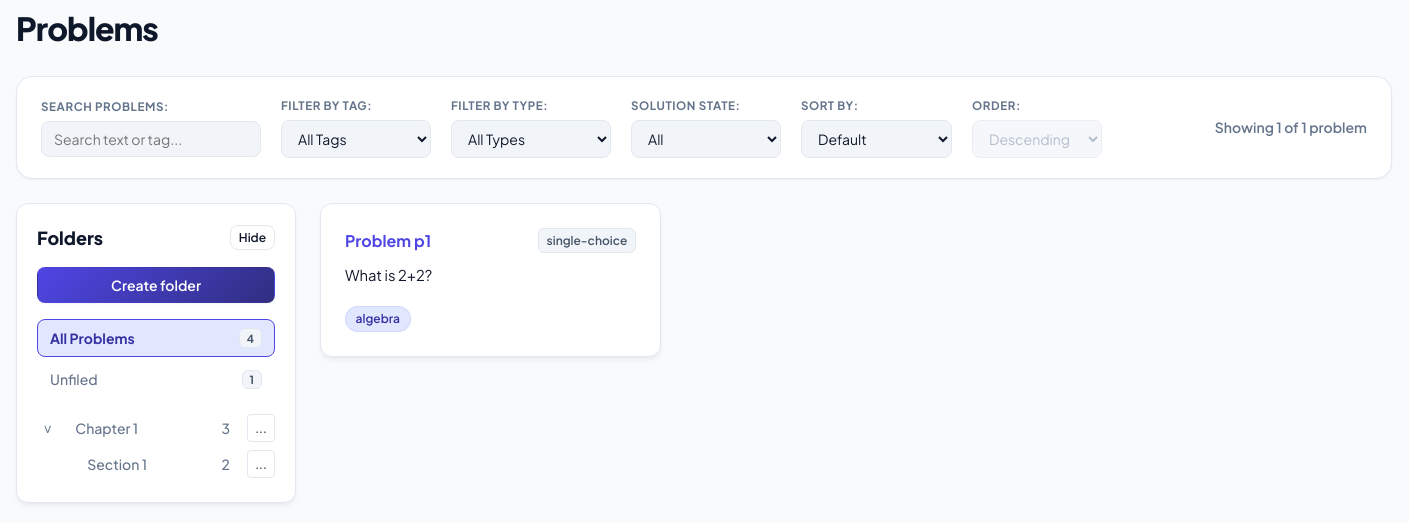
Test: ProblemsPage › persists sidebar collapse state in session storage and shows the active label
This screenshot has width=1409, height=522.
expect the text "What is 2+2?" is shown: met, box [345,266,432,284]
Step 1. Click the button with aria-label "Select folder Chapter 1" → {"x": 153, "y": 428}, box [62,410,243,446]
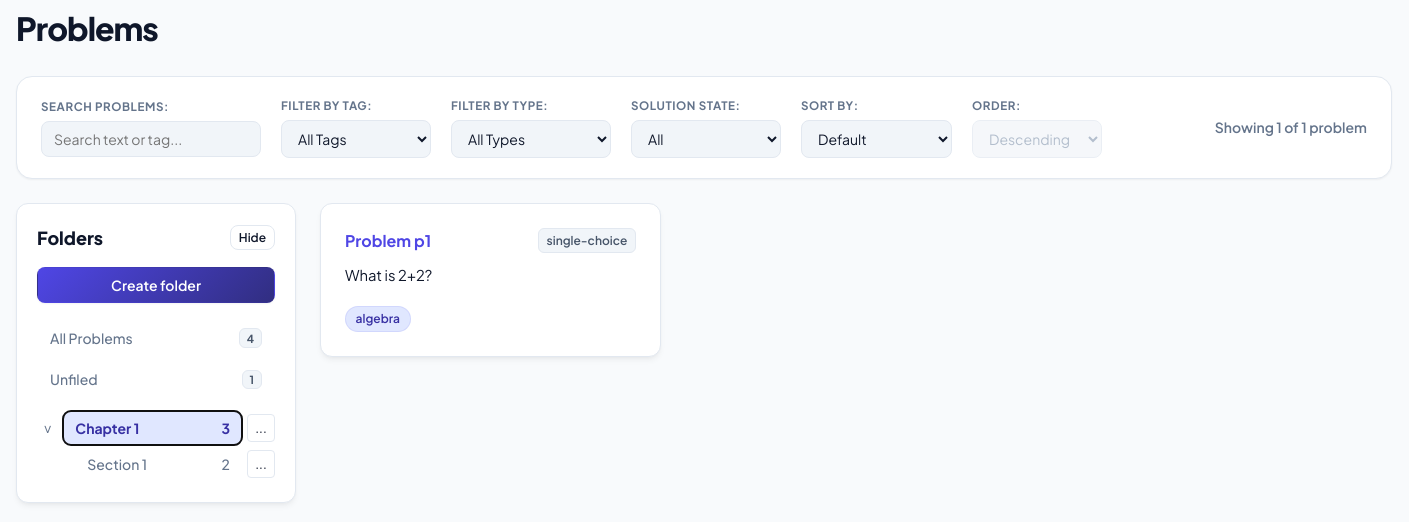
Step 2. Click the button "Hide" → {"x": 252, "y": 238}, box [230,225,275,250]
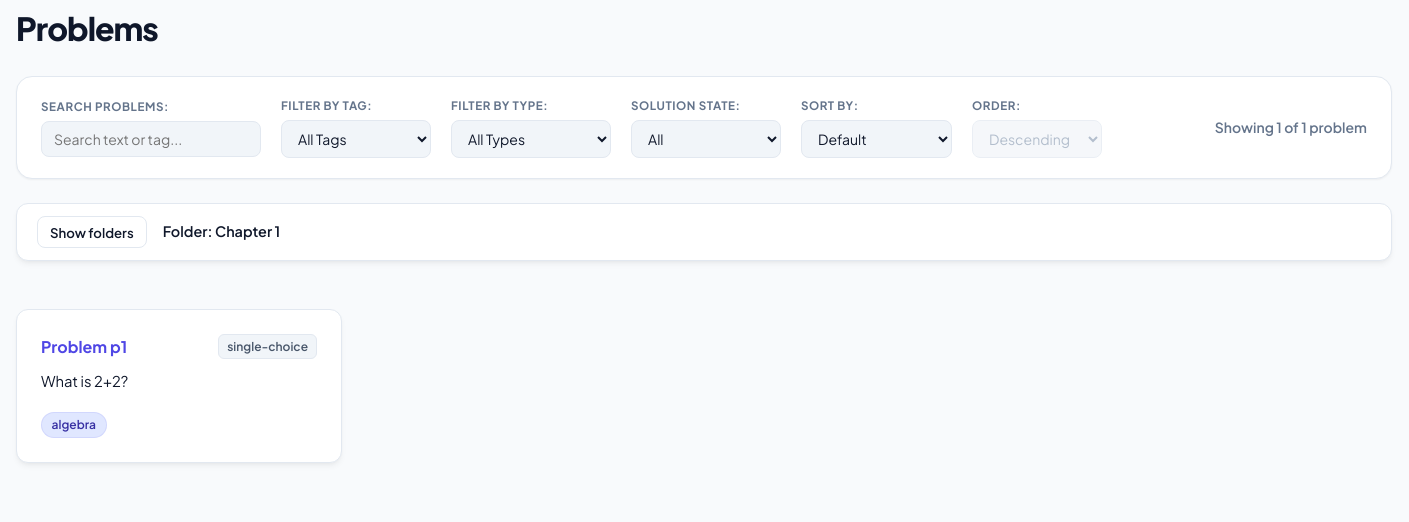
expect the text "Folder: Chapter 1" is shown: met, box [163,222,280,243]
